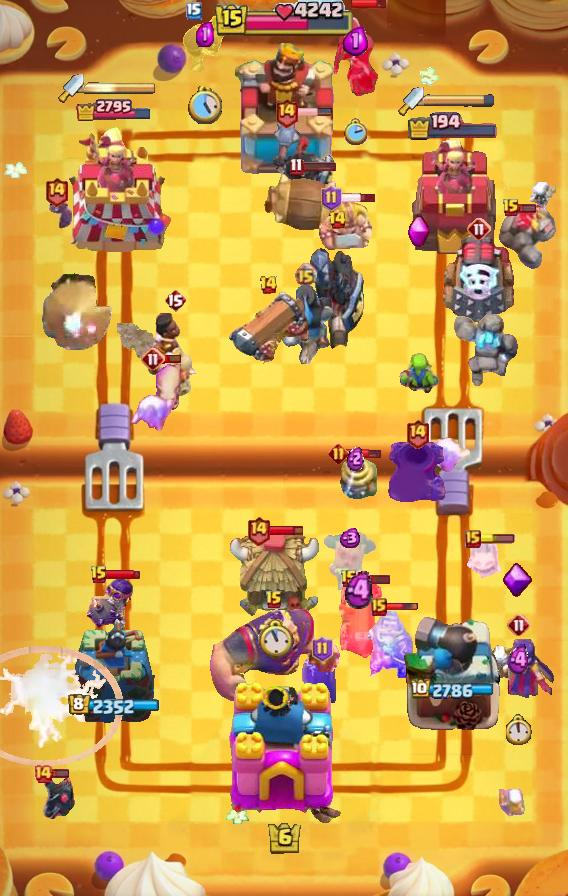bar: (346, 447, 382, 460), (269, 524, 304, 537), (340, 192, 377, 204), (105, 569, 141, 581), (301, 160, 337, 172), (356, 573, 391, 585), (479, 534, 515, 544), (297, 107, 333, 117), (351, 0, 387, 10), (385, 602, 419, 612), (162, 353, 182, 364), (51, 768, 70, 779), (518, 203, 537, 214)
bar-level: (246, 515, 271, 546), (405, 418, 430, 449), (44, 176, 69, 207), (274, 97, 299, 128), (507, 613, 531, 637), (141, 347, 165, 371), (467, 217, 491, 241), (312, 636, 333, 662), (321, 185, 342, 211), (294, 263, 317, 286), (164, 288, 186, 312), (328, 443, 349, 464), (33, 764, 53, 784), (259, 275, 278, 295), (328, 210, 347, 230), (265, 590, 283, 610), (340, 569, 358, 589), (90, 565, 108, 585), (502, 198, 520, 218), (371, 598, 387, 616), (465, 530, 481, 548), (186, 2, 202, 20), (289, 157, 304, 176)
barbarian-barrel: (262, 171, 346, 233)
bat: (40, 195, 72, 229)
bomber-evolution: (183, 8, 227, 74), (85, 577, 135, 631)
cannoneer-tower: (402, 615, 504, 731)
clock: (258, 619, 294, 660), (188, 86, 222, 124), (506, 714, 533, 745), (343, 118, 367, 145)
dagger-duchess-tower: (55, 126, 173, 256), (409, 138, 497, 256)
dagger-duchess-tower-bar: (424, 93, 496, 107), (84, 81, 156, 95)
dart-goblin: (320, 532, 378, 598)
dirt: (117, 323, 179, 371)
electro-spirit: (302, 653, 342, 703)
elite-barbarian: (317, 199, 375, 251)
elixir: (345, 571, 373, 610), (507, 644, 531, 676), (343, 26, 368, 56), (337, 528, 361, 548), (196, 22, 214, 47), (347, 445, 364, 471)
evolution-symbol: (503, 563, 533, 599), (406, 215, 431, 249)
goblin: (397, 347, 441, 402)
golemite: (450, 311, 524, 393), (493, 205, 557, 273)
hog: (153, 360, 185, 412)
ice-spirit: (464, 541, 508, 581)
ice-spirit-evolution: (424, 436, 474, 474), (127, 393, 177, 431)
king-tower: (222, 680, 346, 826), (228, 41, 340, 181)
king-tower-bar: (213, 0, 355, 40)
knight-evolution: (368, 610, 415, 678)
mini-pekka: (40, 774, 78, 824)
mortar: (386, 437, 448, 505)
night-witch: (329, 9, 381, 101)
queen-tower: (70, 616, 158, 731)
ram-rider: (147, 312, 203, 400)
skeleton: (525, 182, 556, 212), (499, 789, 527, 821)
tower-bar: (407, 112, 499, 141), (68, 694, 160, 718), (75, 97, 153, 121), (411, 679, 496, 701)
witch: (481, 639, 557, 701)
zappy: (331, 455, 379, 503)
